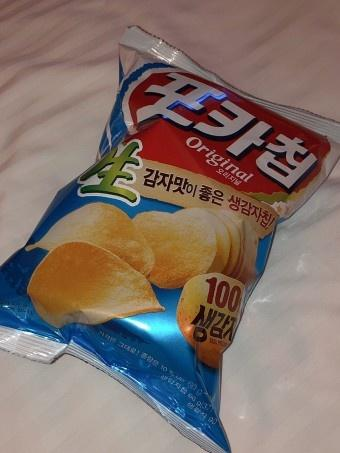snack: (0, 25, 340, 453)
